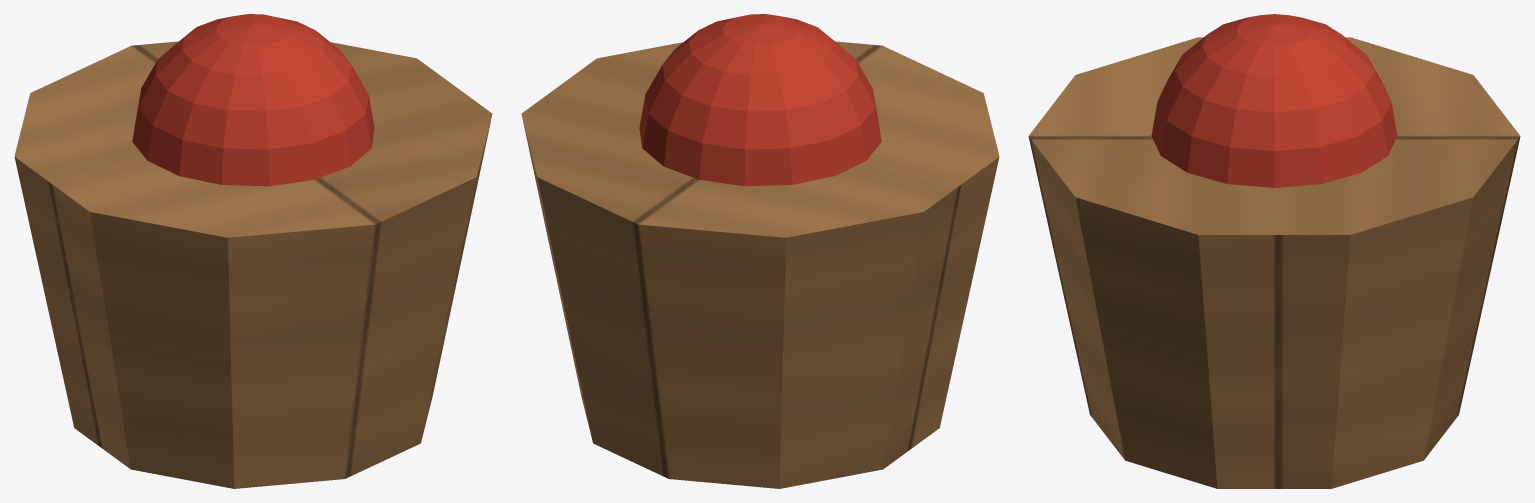
The model's file is kosz.glb.
3 views of the same model, side by side, from view 1: azimuth 30°, elevation 25°; view 2: azimuth 150°, elevation 25°; view 3: azimuth 270°, elevation 25° (orthographic).
Parts seen in each view (by area): view 1: kosz; view 2: kosz; view 3: kosz.
Part boxes in pixels (bbox=[...]): kosz: bbox=[14, 14, 492, 488]; kosz: bbox=[521, 14, 999, 488]; kosz: bbox=[1028, 14, 1520, 488].
Bounding box in the file's own units: 0.4565 × 0.42 × 0.48.
Materials: 2 (1 with a texture image).
